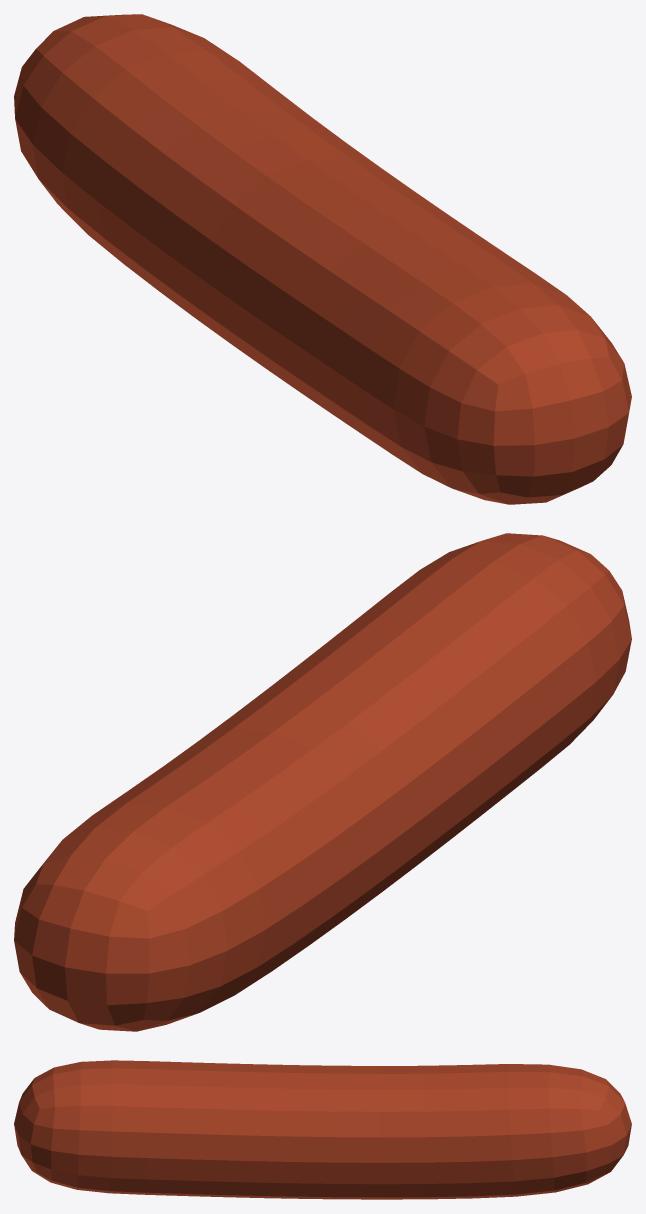
Rendered from Hotdog (Without bun).fbx.
The picture shows the model from 3 angles, top to bottom: view 1: azimuth 30°, elevation 25°; view 2: azimuth 150°, elevation 25°; view 3: azimuth 270°, elevation 25°; orthographic projection. The views are drawn at different scales.
Parts seen in each view (by area): view 1: Hotdog; view 2: Hotdog; view 3: Hotdog.
Part boxes in pixels (x1=…): Hotdog: x1=14, y1=14, x2=631, y2=504; Hotdog: x1=14, y1=533, x2=631, y2=1031; Hotdog: x1=14, y1=1060, x2=631, y2=1199.
Size of the model in its own units: 231 by 221 by 1003.
